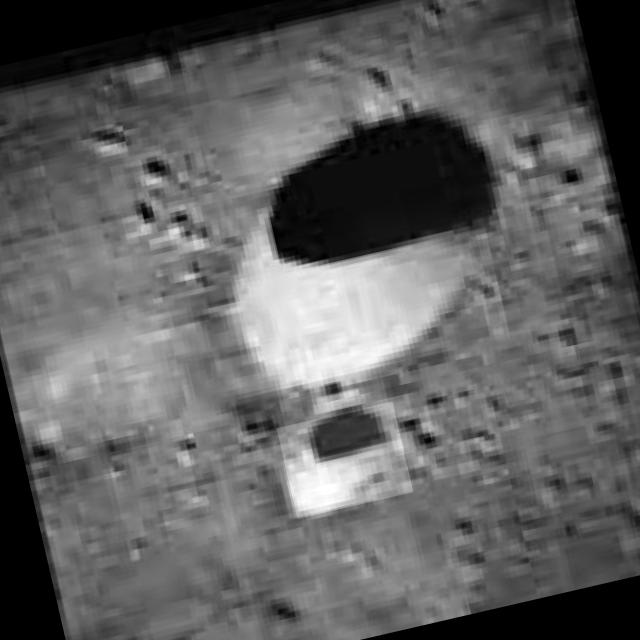crater: (203, 98, 530, 400), (276, 401, 413, 518)
